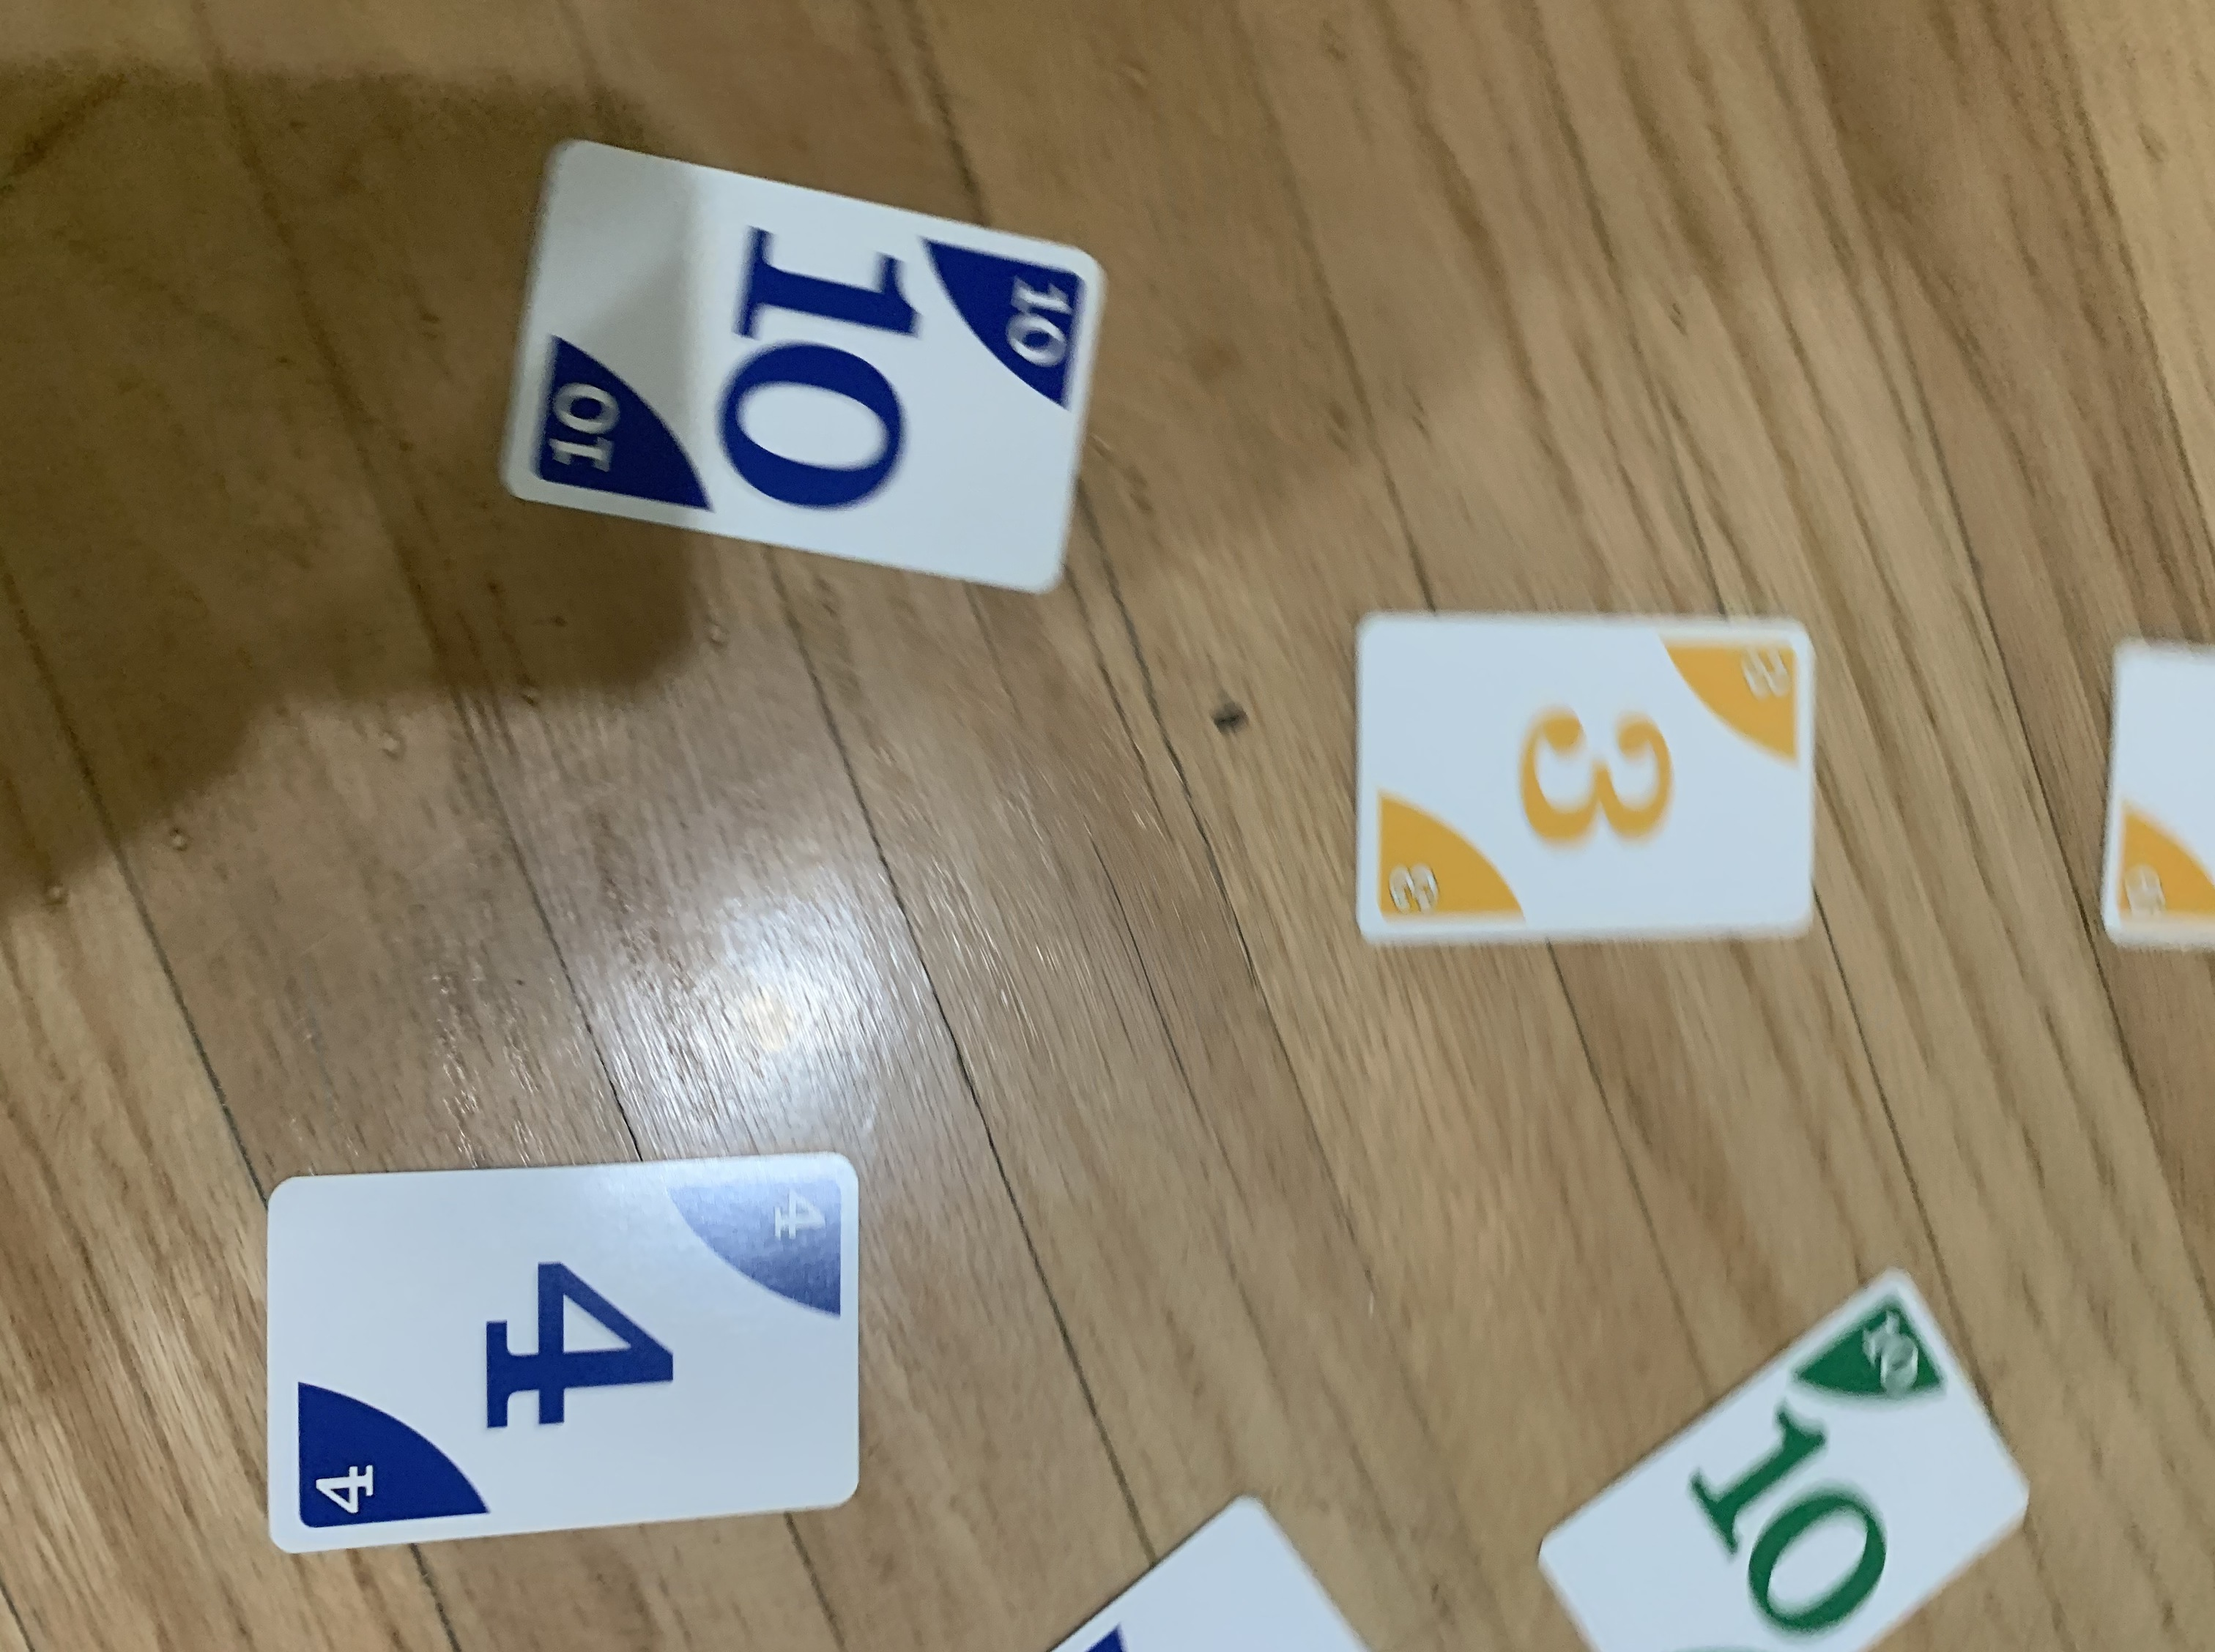four: (248, 1133, 870, 1574)
ten: (486, 130, 1121, 611), (1519, 1256, 2054, 1652)
three: (1342, 593, 1828, 956)
